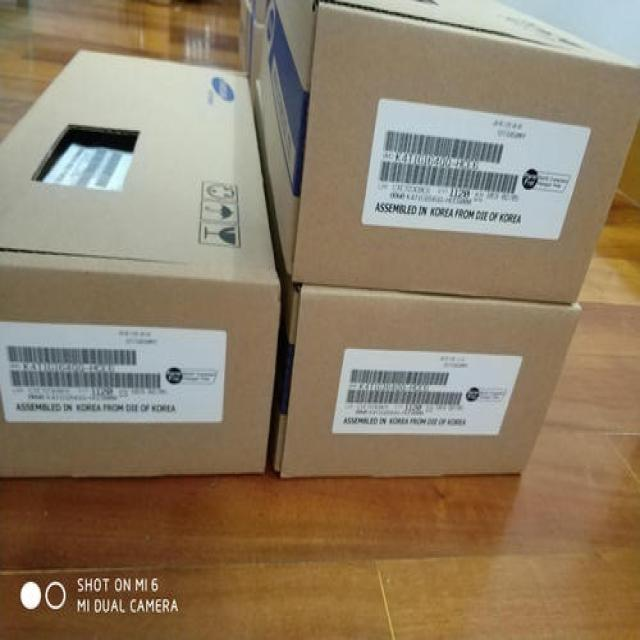box: (1, 48, 282, 479), (256, 1, 639, 308), (269, 282, 583, 476), (250, 1, 265, 94), (236, 1, 255, 69)
